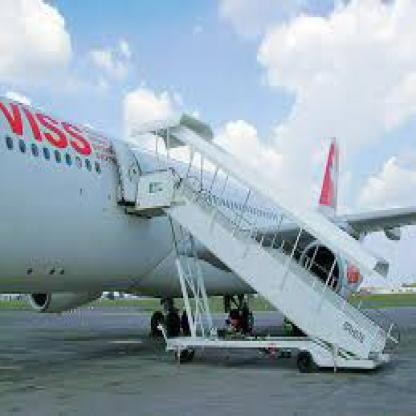boarding stairs: (129, 112, 403, 373)
